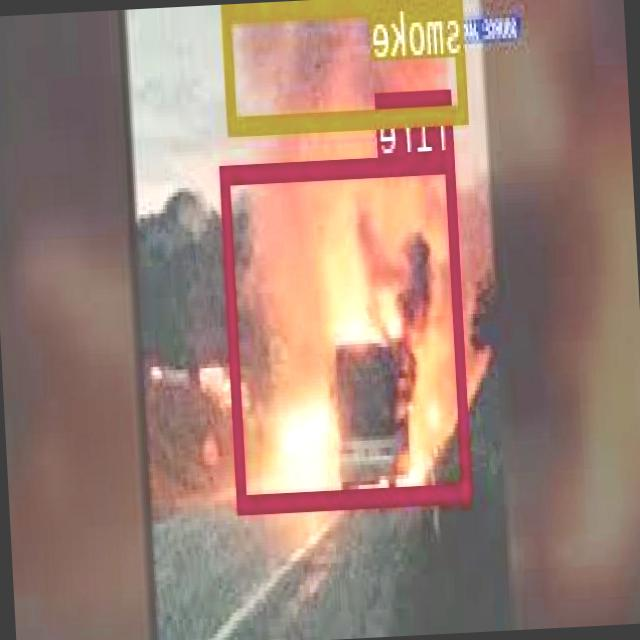fire: (222, 151, 473, 509)
smoke: (224, 0, 470, 133)
